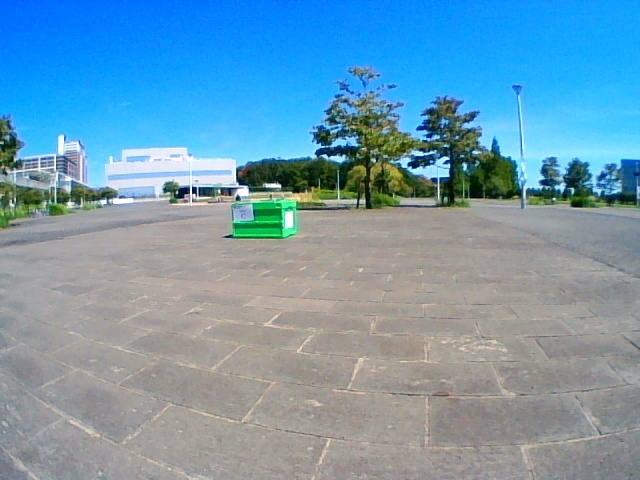green_box: (232, 200, 296, 238)
tag: (233, 205, 251, 221)
